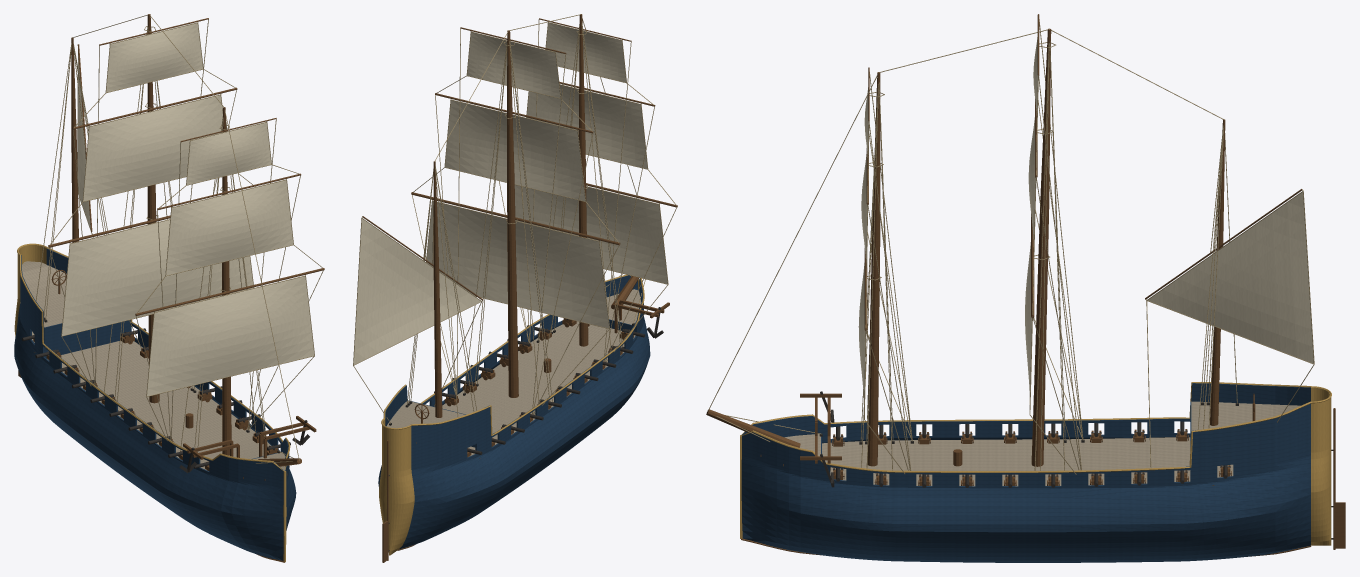
The model's file is ship.glb.
3 renders of one model, left to right at view 1: azimuth 30°, elevation 25°; view 2: azimuth 150°, elevation 25°; view 3: azimuth 270°, elevation 25°, orthographic. The views are drawn at different scales.
Parts seen in each view (by area): view 1: hull_shell_starboard, fore_square_00, main_square_00, main_square_01, main_deck, fore_square_01, main_square_02, fore_square_02, hull_shell_port, castle_deck_0, castle_bulkhead_0_1, mizzen (+9 smaller); view 2: hull_shell_starboard, main_square_00, mizzen_lateen_00, main_square_01, fore_square_00, main_deck, fore_square_01, main_square_02, stern_closure, main, fore_square_02, hull_shell_port (+16 smaller); view 3: hull_shell_port, mizzen_lateen_00, main_deck, hull_shell_starboard, main, stern_closure, fore, castle_deck_0, gunwale_port, mizzen, gunwale_starboard.
Part boxes in pixels (box(x1,y1,x2,y2)): hull_shell_starboard: box(14, 255, 283, 560); fore_square_00: box(147, 276, 314, 396); main_square_00: box(62, 220, 253, 335); main_square_01: box(83, 95, 222, 201); main_deck: box(32, 331, 270, 470); fore_square_01: box(166, 180, 293, 275); main_square_02: box(106, 23, 202, 92); fore_square_02: box(186, 122, 271, 184); hull_shell_port: box(46, 248, 296, 530); castle_deck_0: box(22, 261, 66, 327); castle_bulkhead_0_1: box(44, 320, 129, 357); mizzen: box(71, 37, 78, 242); hull_shell_starboard: box(399, 278, 650, 549); main_square_00: box(426, 201, 609, 328); mizzen_lateen_00: box(353, 219, 480, 364); main_square_01: box(445, 100, 585, 201); fore_square_00: box(514, 185, 667, 283); main_deck: box(389, 321, 635, 474); fore_square_01: box(527, 85, 647, 168); main_square_02: box(467, 32, 560, 98); stern_closure: box(379, 419, 414, 555); main: box(507, 30, 518, 397); fore_square_02: box(546, 23, 626, 82); hull_shell_port: box(378, 275, 637, 488); hull_shell_port: box(741, 403, 1310, 562); mizzen_lateen_00: box(1148, 192, 1313, 363); main_deck: box(822, 437, 1233, 486); hull_shell_starboard: box(741, 383, 1310, 443); main: box(1031, 28, 1051, 466); stern_closure: box(1311, 387, 1331, 545); fore: box(867, 72, 880, 466); castle_deck_0: box(1191, 401, 1300, 430); gunwale_port: box(741, 401, 1311, 472); mizzen: box(1210, 119, 1225, 425); gunwale_starboard: box(741, 382, 1310, 434).
Size of the model in its own units: 17.74 by 36.74 by 39.96.
7 materials, 7 textured.
